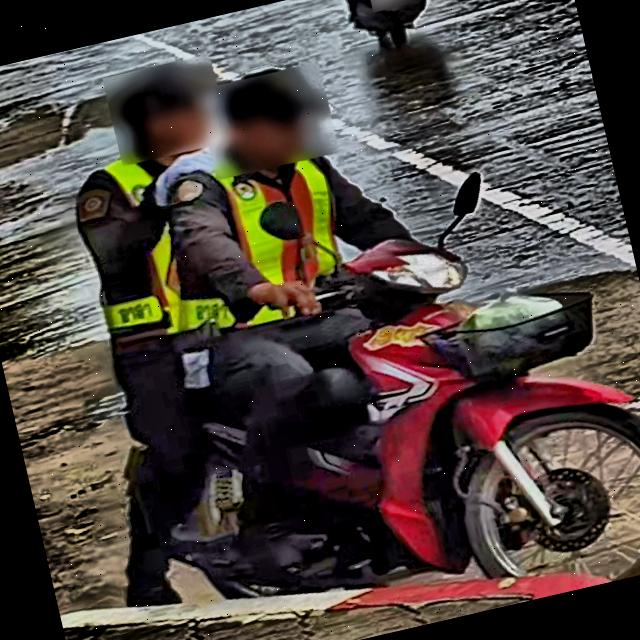motorcycle: (75, 141, 640, 640)
